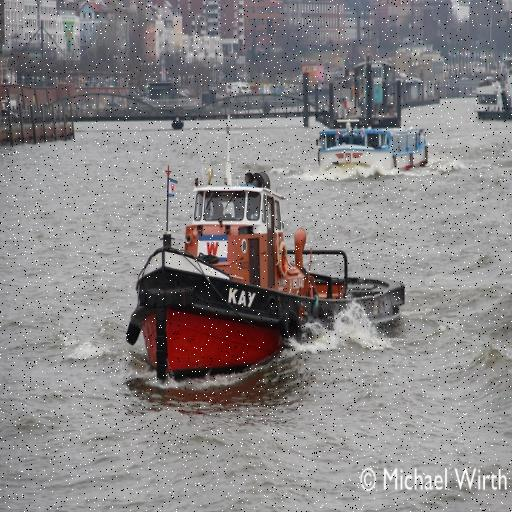tugboat: (120, 130, 412, 393)
